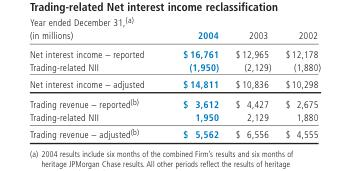table: (28, 29, 320, 139)
table column: (28, 29, 162, 139), (162, 29, 226, 139), (226, 29, 277, 139), (277, 29, 320, 139)
table column header: (28, 29, 320, 44)
table row: (28, 74, 320, 92), (28, 92, 320, 110), (28, 29, 320, 44), (28, 44, 320, 59), (28, 59, 320, 74), (28, 124, 320, 139), (28, 110, 320, 124)
